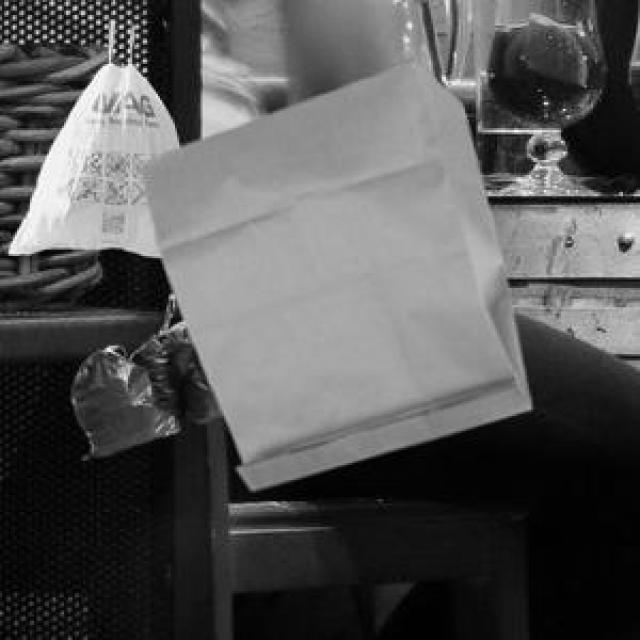miscellaneous trash: (68, 318, 220, 457)
paper: (137, 58, 527, 486)
